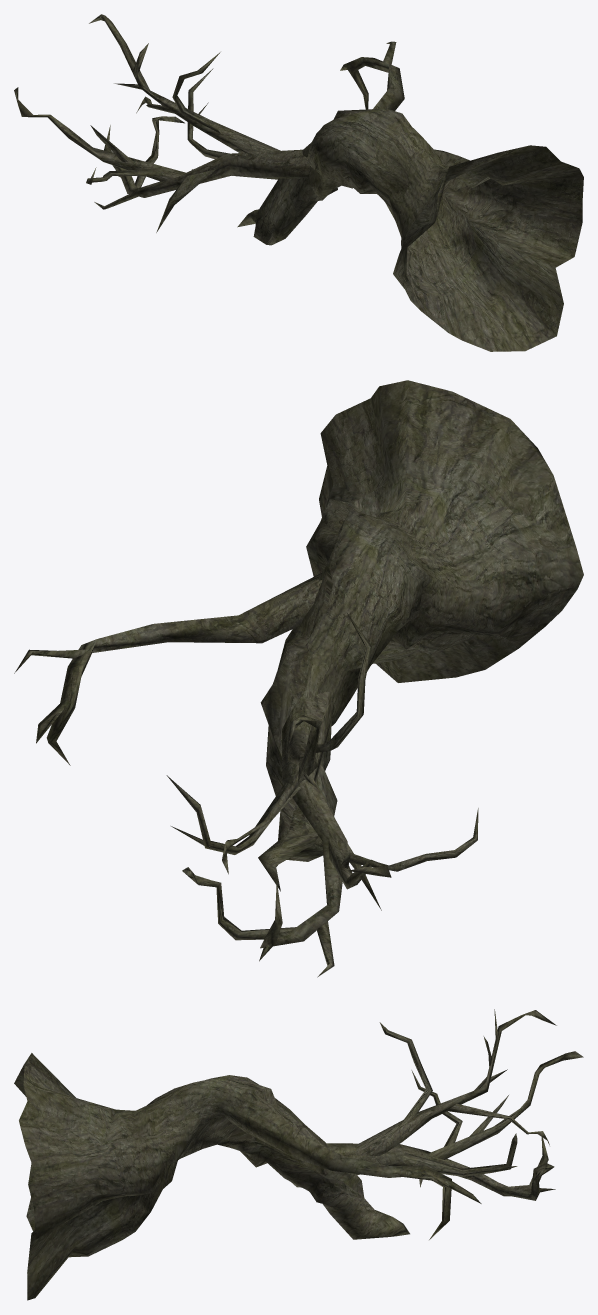
File: TI_Old_Tree_05_LOD_01.fbx
3 views of the same model, one above another, from view 1: azimuth 30°, elevation 25°; view 2: azimuth 150°, elevation 25°; view 3: azimuth 270°, elevation 25° (orthographic). The views are drawn at different scales.
Parts seen in each view (by area): view 1: TI_Old_Tree_05_LOD_01; view 2: TI_Old_Tree_05_LOD_01; view 3: TI_Old_Tree_05_LOD_01.
Part boxes in pixels (left/top/right/bottom): TI_Old_Tree_05_LOD_01: left=14, top=14, right=583, bottom=351; TI_Old_Tree_05_LOD_01: left=14, top=380, right=583, bottom=977; TI_Old_Tree_05_LOD_01: left=14, top=1009, right=583, bottom=1300.
Size of the model in its own units: 6.86 by 4.37 by 10.61.
